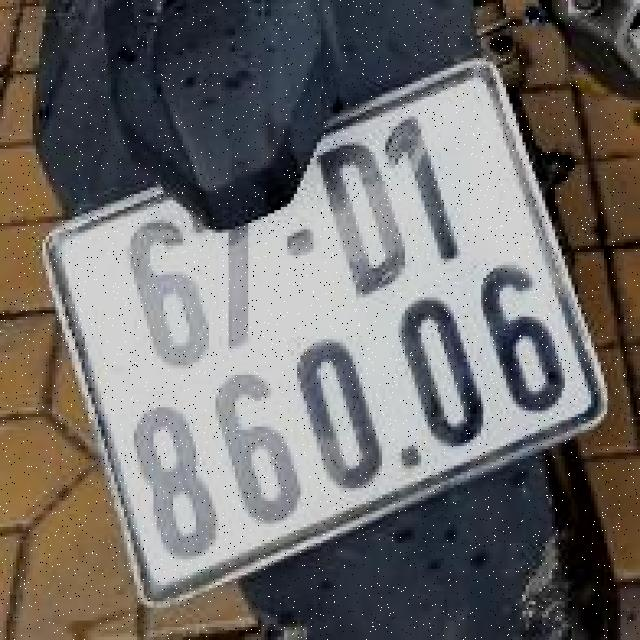0: (382, 278, 499, 460), (280, 325, 398, 503)
1: (371, 95, 488, 278)
6: (197, 357, 318, 544), (461, 246, 581, 429), (113, 210, 222, 382)
7: (186, 187, 283, 357)
8: (117, 390, 238, 576)
D: (305, 127, 425, 307)
